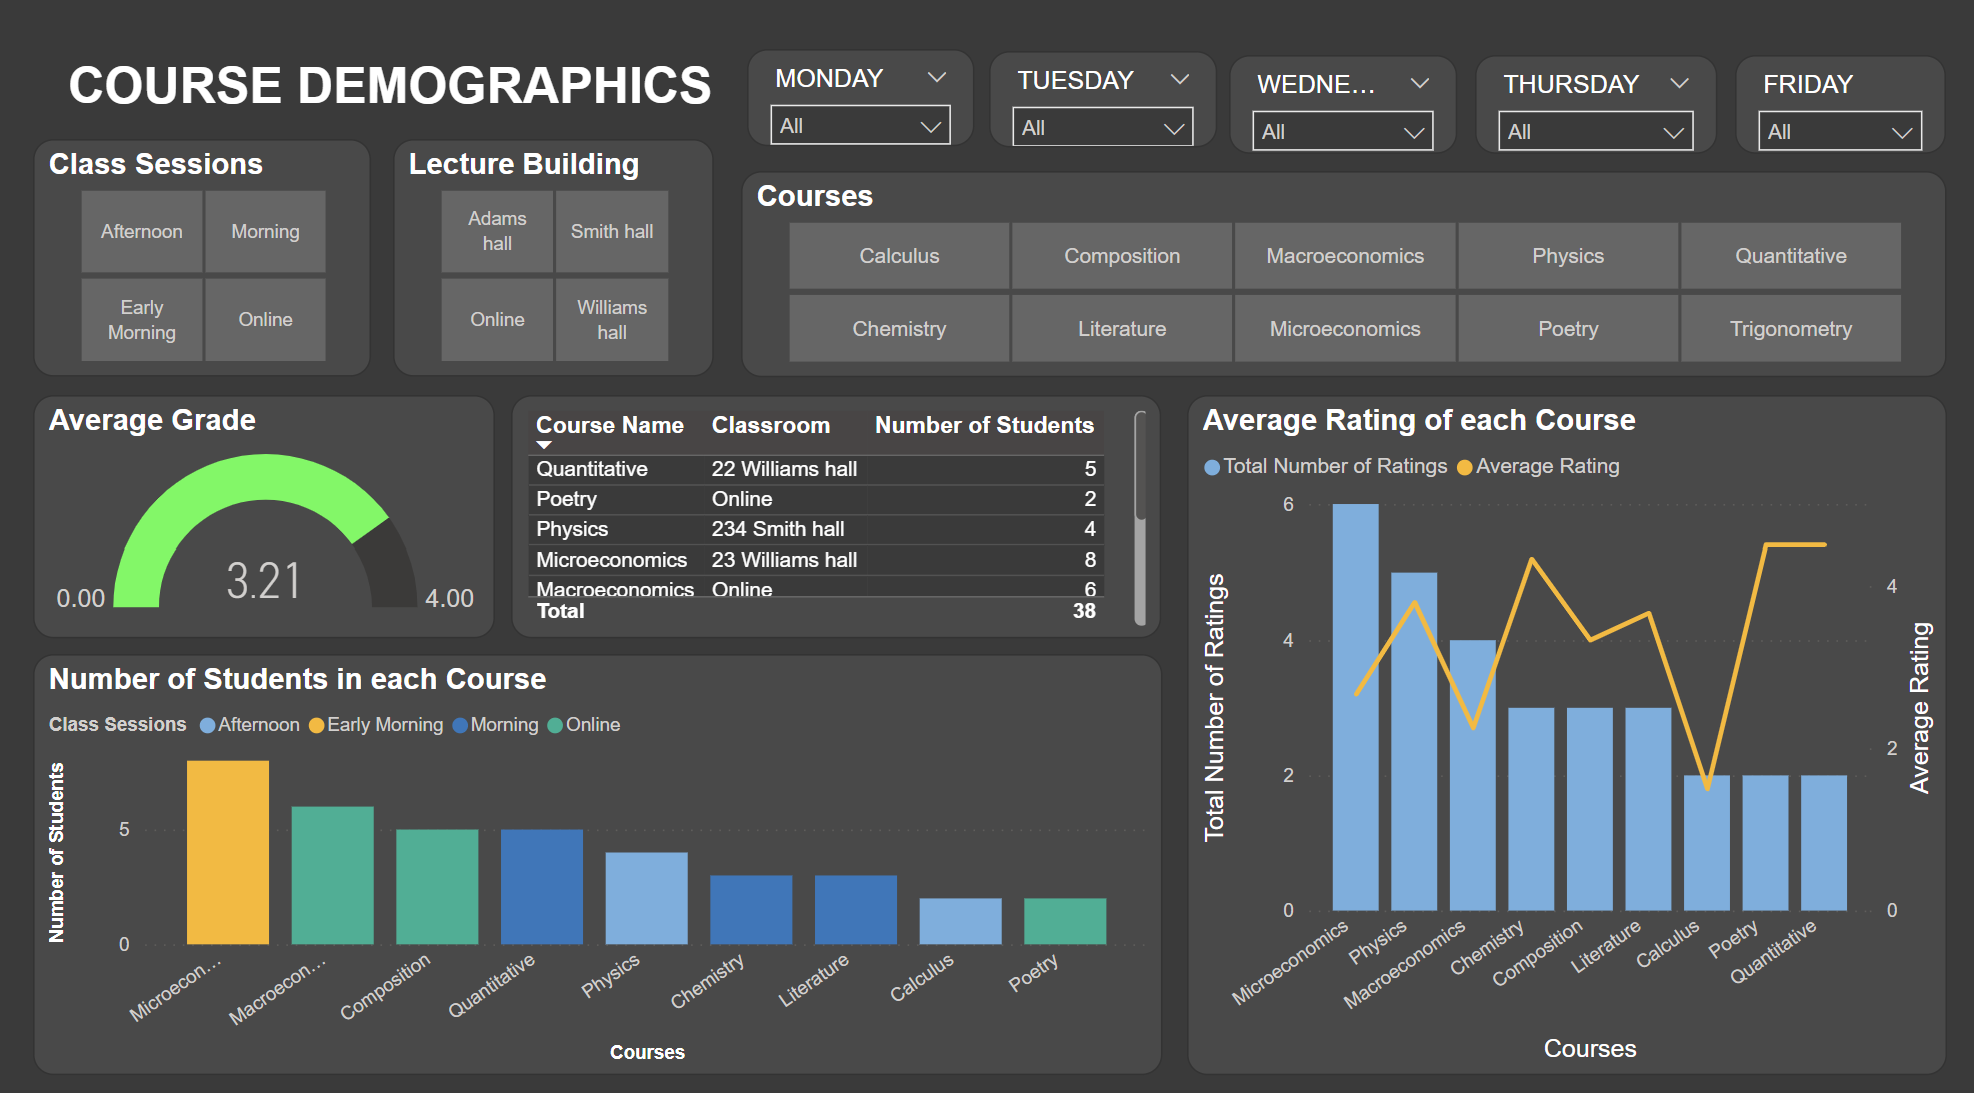

The page's visual inventory and layout, read from the dashboard file:
{"tool":"powerbi","page":{"name":"Course Demo","canvas":[1280,720],"ordinal":0},"visuals":[{"type":"slicer","title":"Courses","fields":{"Values":["DIM_COURSE.COURSE_TITLE"]},"box":[481.4,117.1,768.6,131.4],"z":0},{"type":"slicer","fields":{"Values":["DIM_COURSE.MONDAY"]},"box":[485.7,40,145,62],"z":1000},{"type":"slicer","fields":{"Values":["DIM_COURSE.TUESDAY"]},"box":[640,41.4,145.7,61.4],"z":2000},{"type":"slicer","fields":{"Values":["DIM_COURSE.THURSDAY"]},"box":[950,42.9,154.3,62.9],"z":3000},{"type":"slicer","fields":{"Values":["DIM_COURSE.WEDNESDAY"]},"box":[792.9,42.9,145.7,62.9],"z":4000},{"type":"slicer","fields":{"Values":["DIM_COURSE.FRIDAY"]},"box":[1115.7,42.9,134.3,62.9],"z":5000},{"type":"slicer","title":"Class Sessions","fields":{"Values":["DIM_COURSE.TIME_OF_DAY"]},"box":[30,97.1,215.7,151.4],"z":6000},{"type":"columnChart","title":"Number of Students in each Course","fields":{"Category":["DIM_COURSE.COURSE_TITLE"],"Series":["DIM_COURSE.TIME_OF_DAY"],"Y":["CountNonNull(FACT_STUDENT_GRADE.COURSEID)"]},"box":[30,424.3,720,268.6],"z":7000},{"type":"gauge","title":"Average Grade","fields":{"Y":["Avg(FACT_STUDENT_GRADE.CLASS_AVG)"]},"box":[30,260,294.3,154.3],"z":8000},{"type":"lineClusteredColumnComboChart","title":"Average Rating of each Course","fields":{"Category":["DIM_COURSE.COURSE_TITLE"],"Y":["CountNonNull(FACT_COURSE_EVALUATION.RATING_COUNT)"],"Y2":["Avg(FACT_COURSE_EVALUATION.AVG_RATING)"]},"box":[765.7,260,484.3,432.9],"z":9000},{"type":"tableEx","fields":{"Values":["DIM_COURSE.COURSE_TITLE","DIM_COURSE.LECTURE_LOC","CountNonNull(FACT_STUDENT_GRADE.STUDENTID)"]},"box":[335.7,260,414.3,154.3],"z":10000},{"type":"slicer","title":"Lecture Building","fields":{"Values":["DIM_COURSE.LEC_BUILDING"]},"box":[260,97.1,204.3,151.4],"z":11000},{"type":"textbox","box":[30,40,455.7,47.1],"z":12000}]}

Visuals, with their boxes in screenshot pixels (x1, y1, x2, y2), scaled from the page's 1280x720 canvas onto the 1974x1094 screenshot:
"Courses" slicer: l=742, t=178, r=1928, b=378
slicer - DIM_COURSE.MONDAY: l=749, t=61, r=973, b=155
slicer - DIM_COURSE.TUESDAY: l=987, t=63, r=1212, b=156
slicer - DIM_COURSE.THURSDAY: l=1465, t=65, r=1703, b=161
slicer - DIM_COURSE.WEDNESDAY: l=1223, t=65, r=1447, b=161
slicer - DIM_COURSE.FRIDAY: l=1721, t=65, r=1928, b=161
"Class Sessions" slicer: l=46, t=148, r=379, b=378
"Number of Students in each Course" columnChart: l=46, t=645, r=1157, b=1053
"Average Grade" gauge: l=46, t=395, r=500, b=630
"Average Rating of each Course" lineClusteredColumnComboChart: l=1181, t=395, r=1928, b=1053
tableEx - DIM_COURSE.COURSE_TITLE x DIM_COURSE.LECTURE_LOC: l=518, t=395, r=1157, b=630
"Lecture Building" slicer: l=401, t=148, r=716, b=378
textbox: l=46, t=61, r=749, b=132
